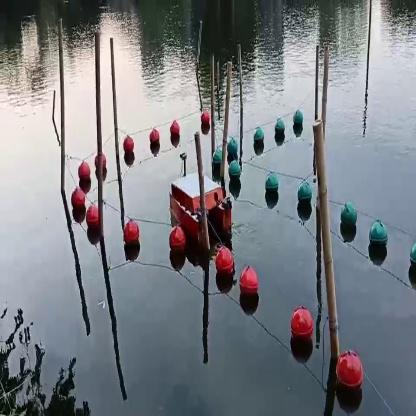green_buoy: (336, 198, 357, 242), (368, 218, 387, 264), (294, 178, 314, 216), (265, 172, 282, 208), (250, 130, 266, 151), (226, 137, 240, 156), (295, 110, 306, 134), (230, 162, 242, 184), (275, 119, 286, 140), (213, 152, 221, 169)
red_buoy: (287, 304, 321, 354), (334, 344, 364, 395), (238, 266, 258, 309), (122, 217, 143, 253), (168, 225, 187, 259), (217, 244, 232, 282), (68, 186, 86, 216), (75, 160, 93, 187), (88, 202, 100, 233), (122, 133, 136, 158), (148, 130, 162, 152), (170, 118, 181, 141), (200, 106, 210, 130)
